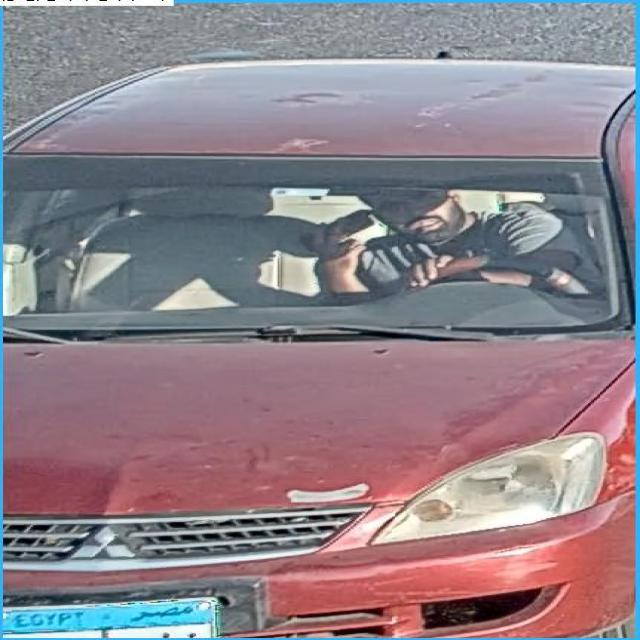No-seat-belt: (371, 174, 629, 324)
